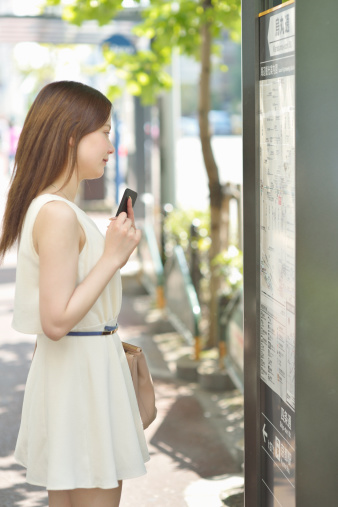em pe: (13, 78, 147, 507)
